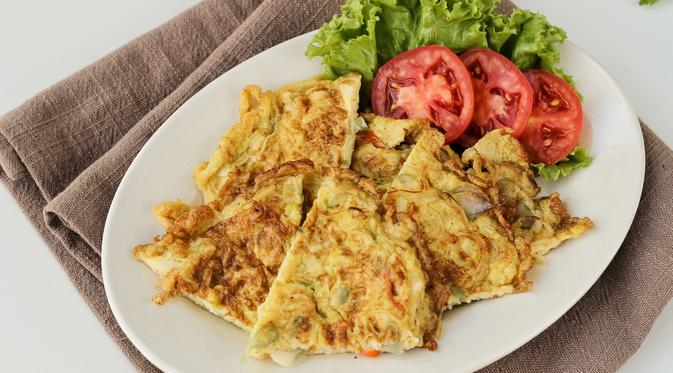Telur: (243, 166, 446, 360), (127, 177, 312, 304)
